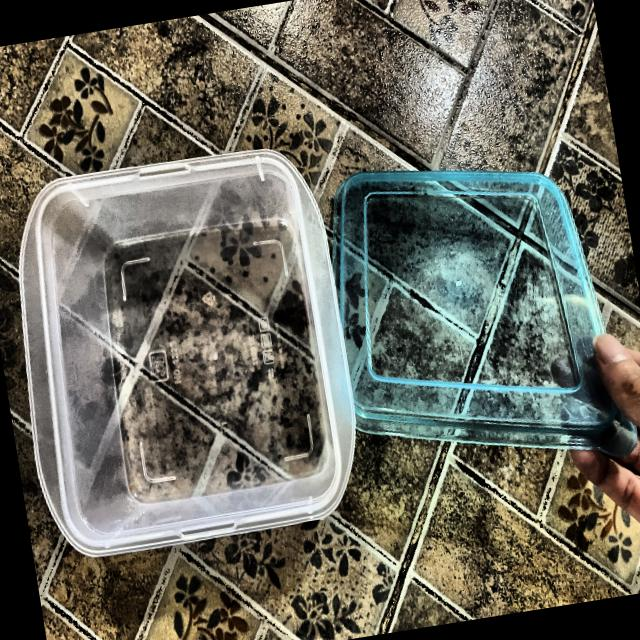plastic container: (11, 85, 616, 560)
